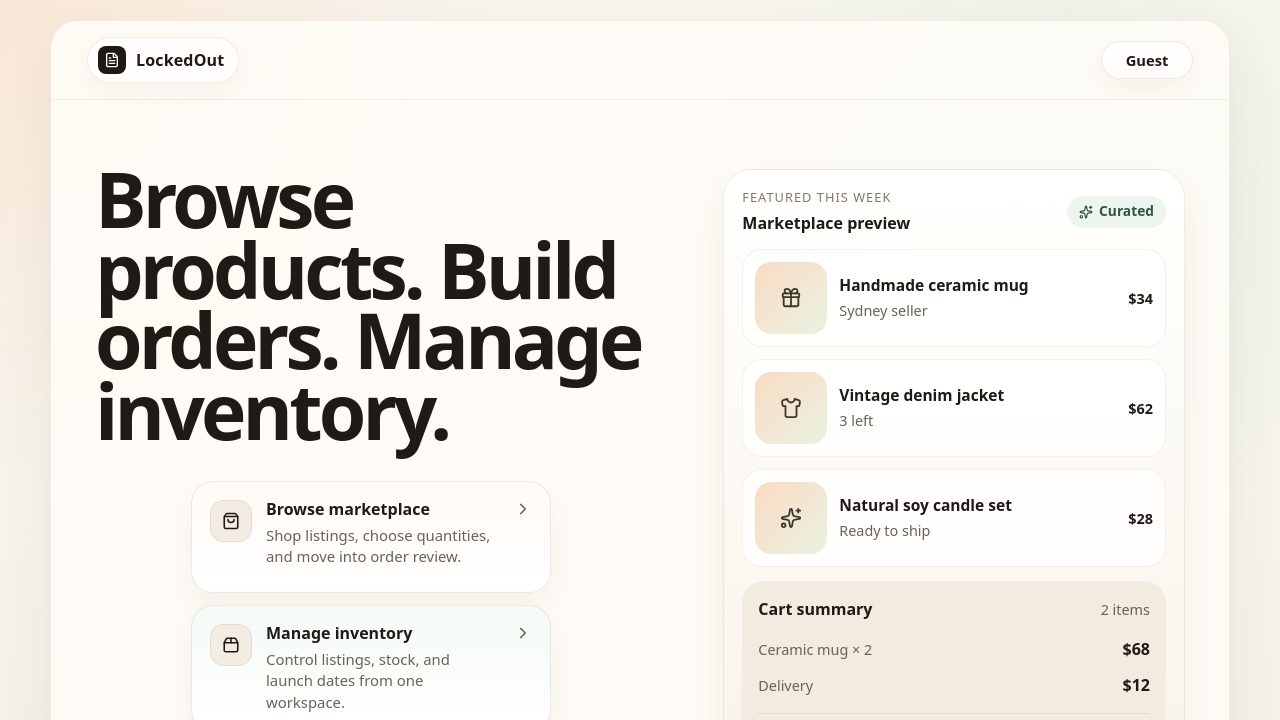
App routing › opens and closes the mobile menu
This screenshot has width=1280, height=720.
expect the text "Guest" is shown: met, box [1126,49,1168,71]
Click the button with aria-label "open account menu".
click(1147, 60)  # box [1101,41,1193,79]
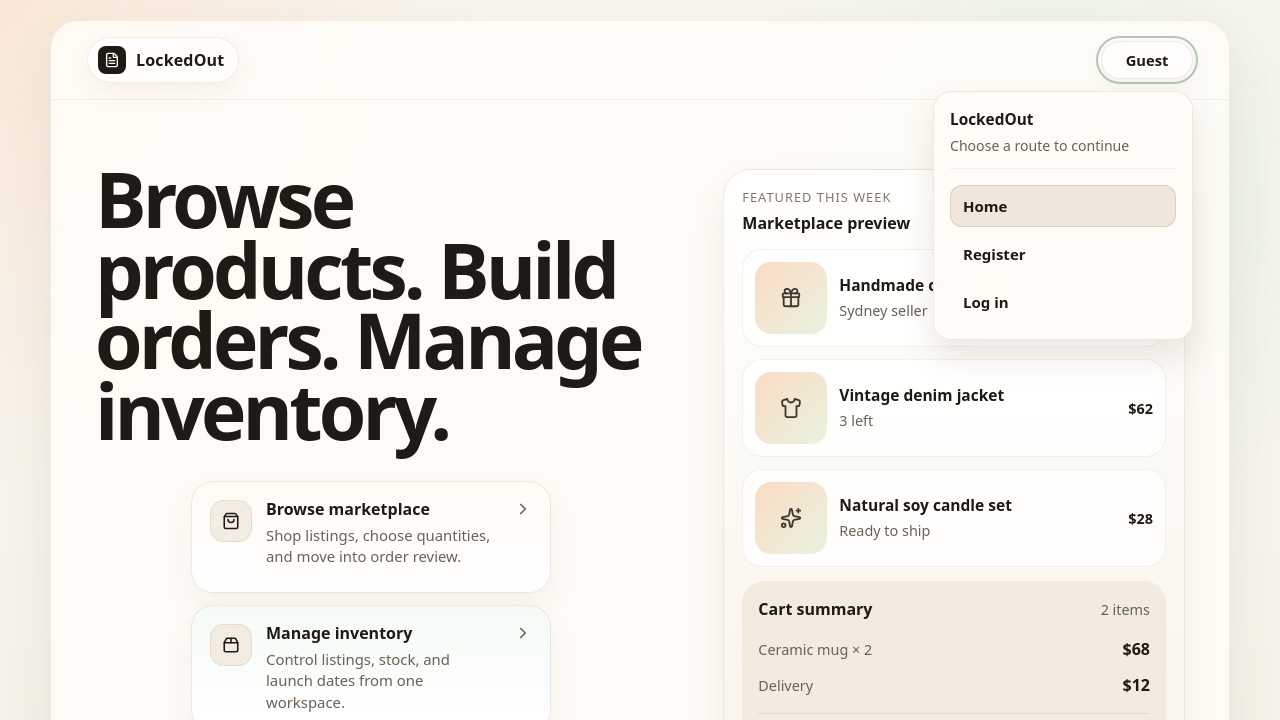
expect the button with aria-label "close account menu" is shown: met, box [1101,41,1193,79]
expect the link "Home" is shown: met, box [950,185,1176,227]
expect the link "Register" is shown: met, box [963,244,1026,264]
Press Escape
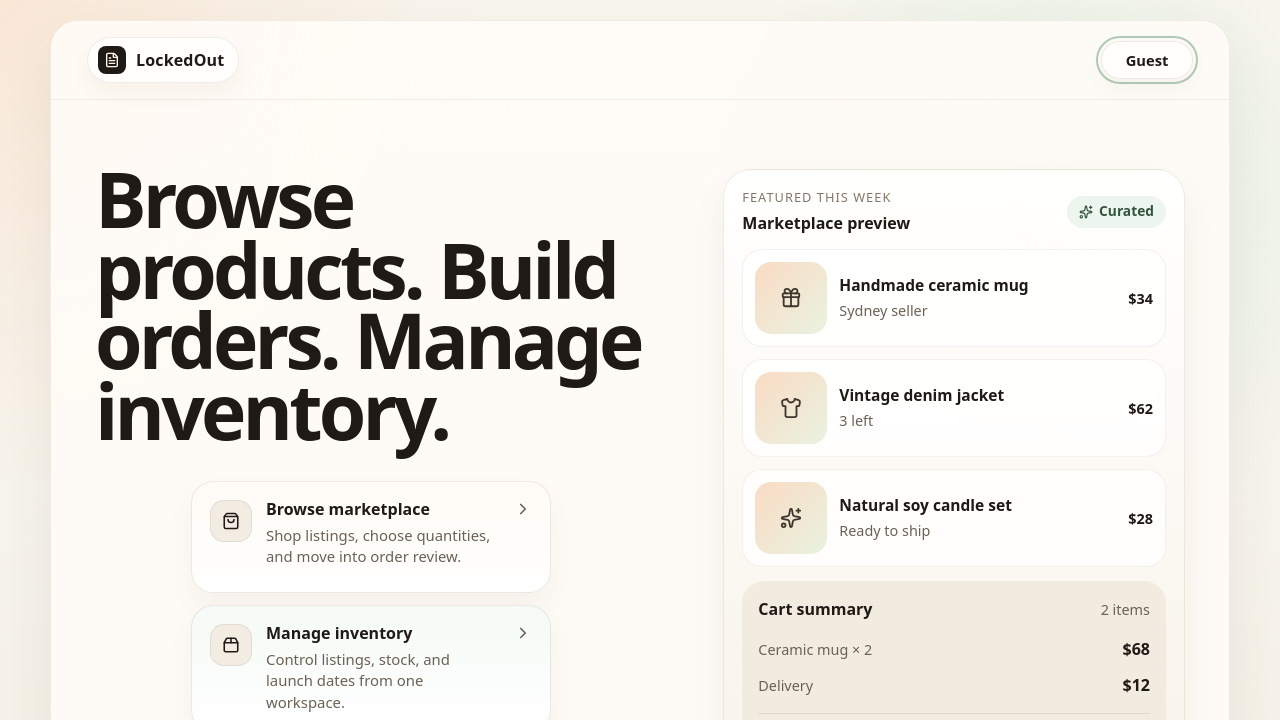
expect the navigation bar "main" is gone: met
